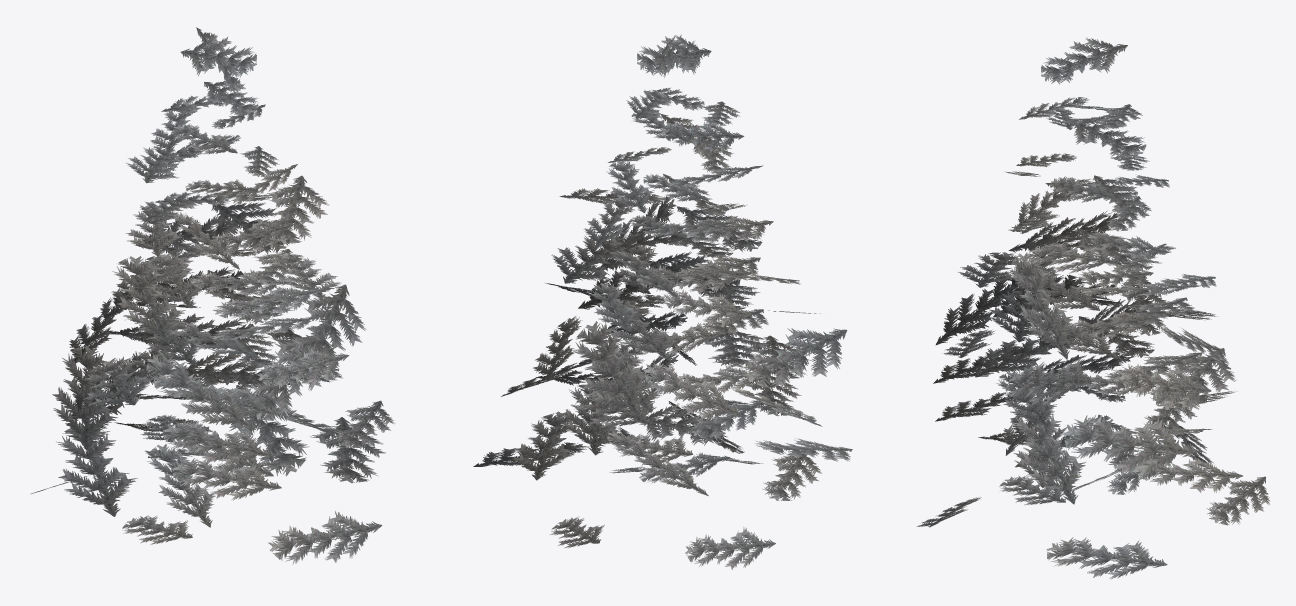
The model's file is spruce_l1.gltf.
3 renders of one model, left to right at view 1: azimuth 30°, elevation 25°; view 2: azimuth 150°, elevation 25°; view 3: azimuth 270°, elevation 25°, orthographic. The views are drawn at different scales.
Parts seen in each view (by area): view 1: spruce_l1; view 2: spruce_l1; view 3: spruce_l1.
Part boxes in pixels (x1,y1,x2,y2): spruce_l1: (31, 27, 395, 564); spruce_l1: (473, 34, 852, 569); spruce_l1: (917, 37, 1270, 579).
Bounding box in the file's own units: 9.94 × 12.65 × 8.85.
1 material, 1 textured.
